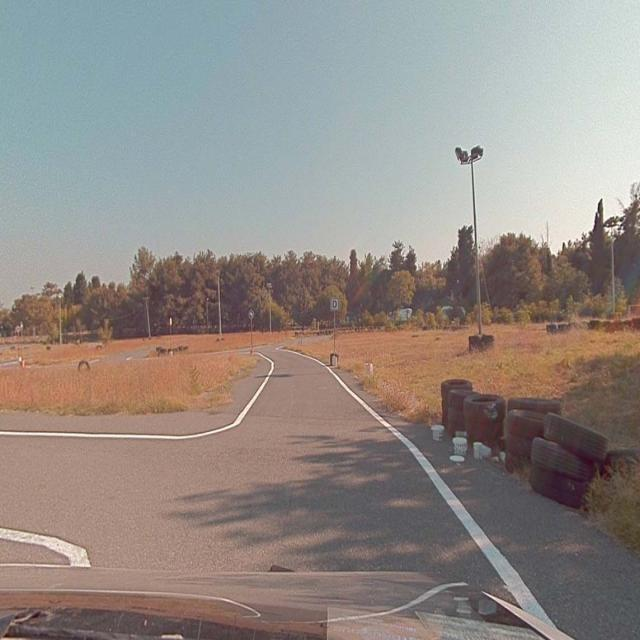durak: (331, 298, 339, 310)
